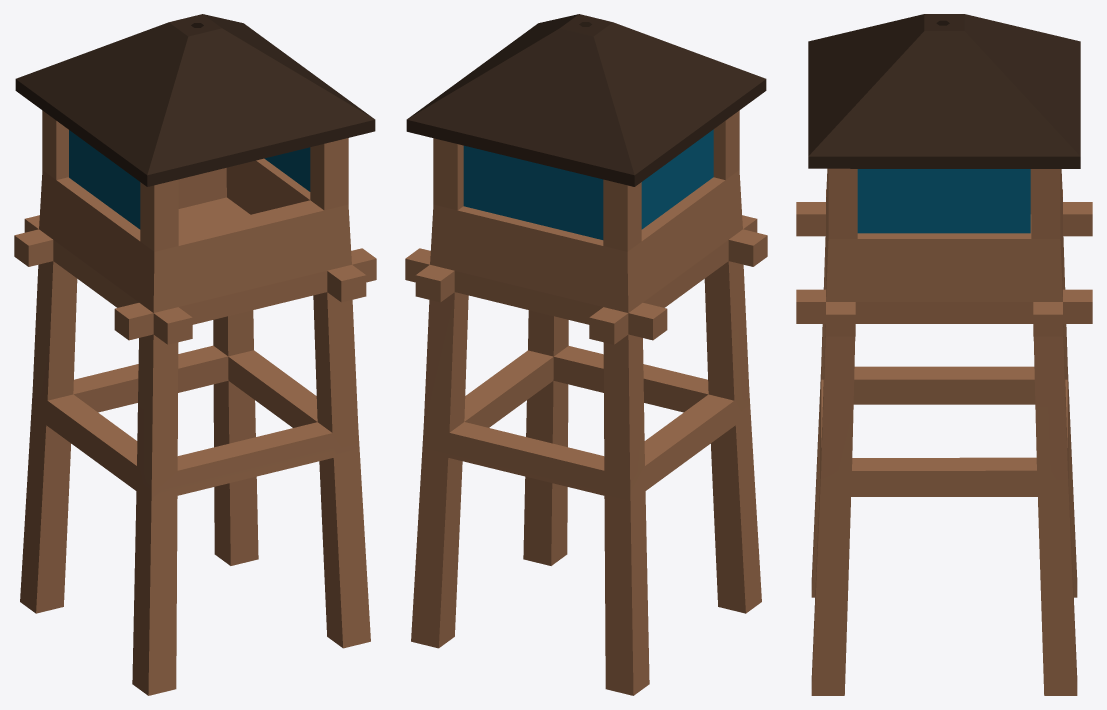
File: Posed.glb
3 renders of one model, left to right at view 1: azimuth 30°, elevation 25°; view 2: azimuth 150°, elevation 25°; view 3: azimuth 270°, elevation 25°, orthographic. The views are drawn at different scales.
Visible parts, largest first — view 1: Cube.022, Cube, Cube.002; view 2: Cube.022, Cube.001, Cube; view 3: Cube.022, Cube.002.
Boxes of the visible parts, left/top/right/bottom form: Cube.022: left=14, top=14, right=376, bottom=695; Cube: left=69, top=130, right=140, bottom=229; Cube.002: left=264, top=147, right=310, bottom=191; Cube.022: left=405, top=14, right=767, bottom=695; Cube.001: left=463, top=145, right=603, bottom=239; Cube: left=641, top=129, right=713, bottom=229; Cube.022: left=796, top=14, right=1092, bottom=695; Cube.002: left=857, top=169, right=1030, bottom=233.
Size of the model in its own units: 1.49 by 3.44 by 1.49.
